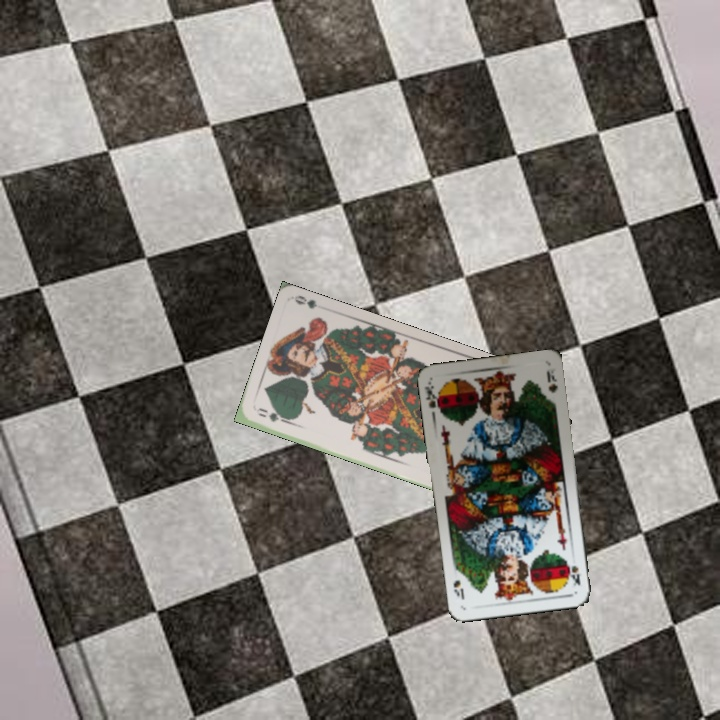GO: (255, 409, 293, 426)
SK: (421, 379, 444, 416), (565, 560, 583, 588)
